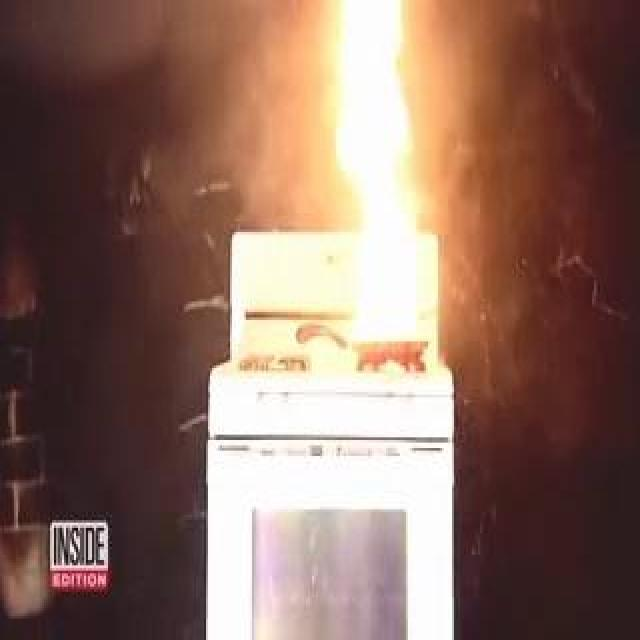Fire: (316, 3, 448, 357)
